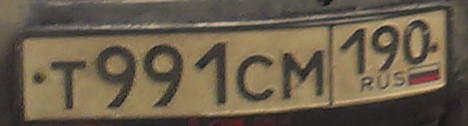character: (92, 40, 140, 114), (141, 38, 185, 111), (194, 39, 232, 108), (281, 50, 328, 103), (48, 57, 90, 114), (234, 51, 279, 104), (402, 17, 432, 66), (338, 27, 368, 75), (371, 25, 400, 72)
